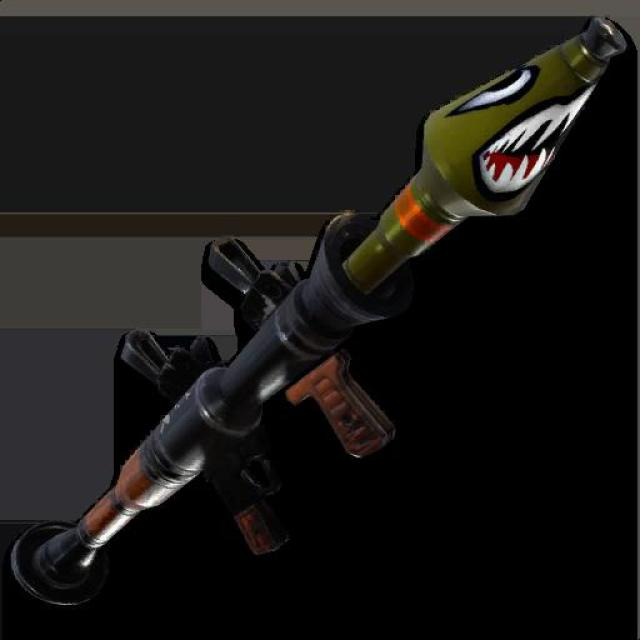weapon: (1, 14, 639, 622)
